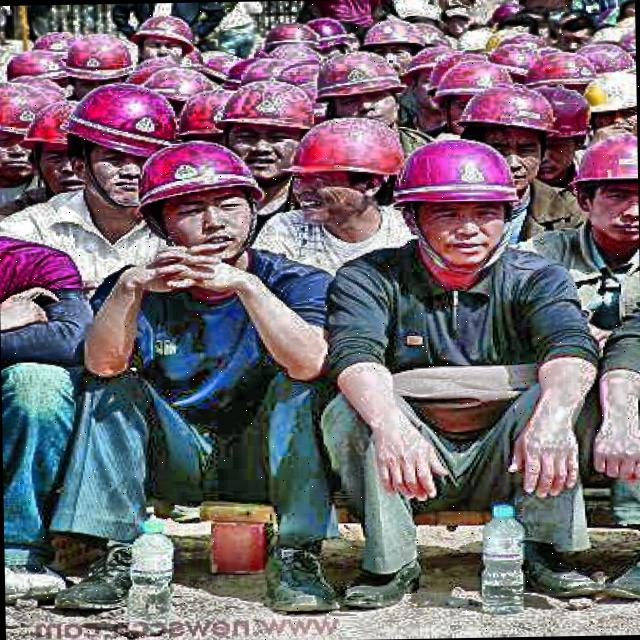helmet: (138, 136, 264, 265), (400, 138, 520, 264), (70, 85, 175, 216), (282, 117, 402, 226), (454, 82, 556, 195), (216, 81, 314, 176), (572, 127, 638, 256), (516, 88, 598, 182), (26, 96, 90, 200), (318, 52, 403, 130), (434, 59, 517, 129), (0, 77, 50, 183), (64, 34, 136, 102), (403, 43, 468, 115), (364, 15, 426, 79), (580, 64, 634, 136), (130, 14, 194, 62)
